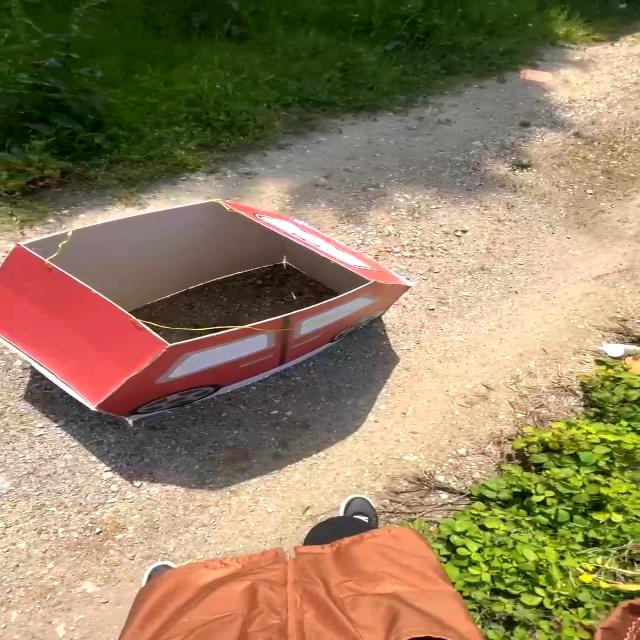red_car: (0, 188, 439, 438)
